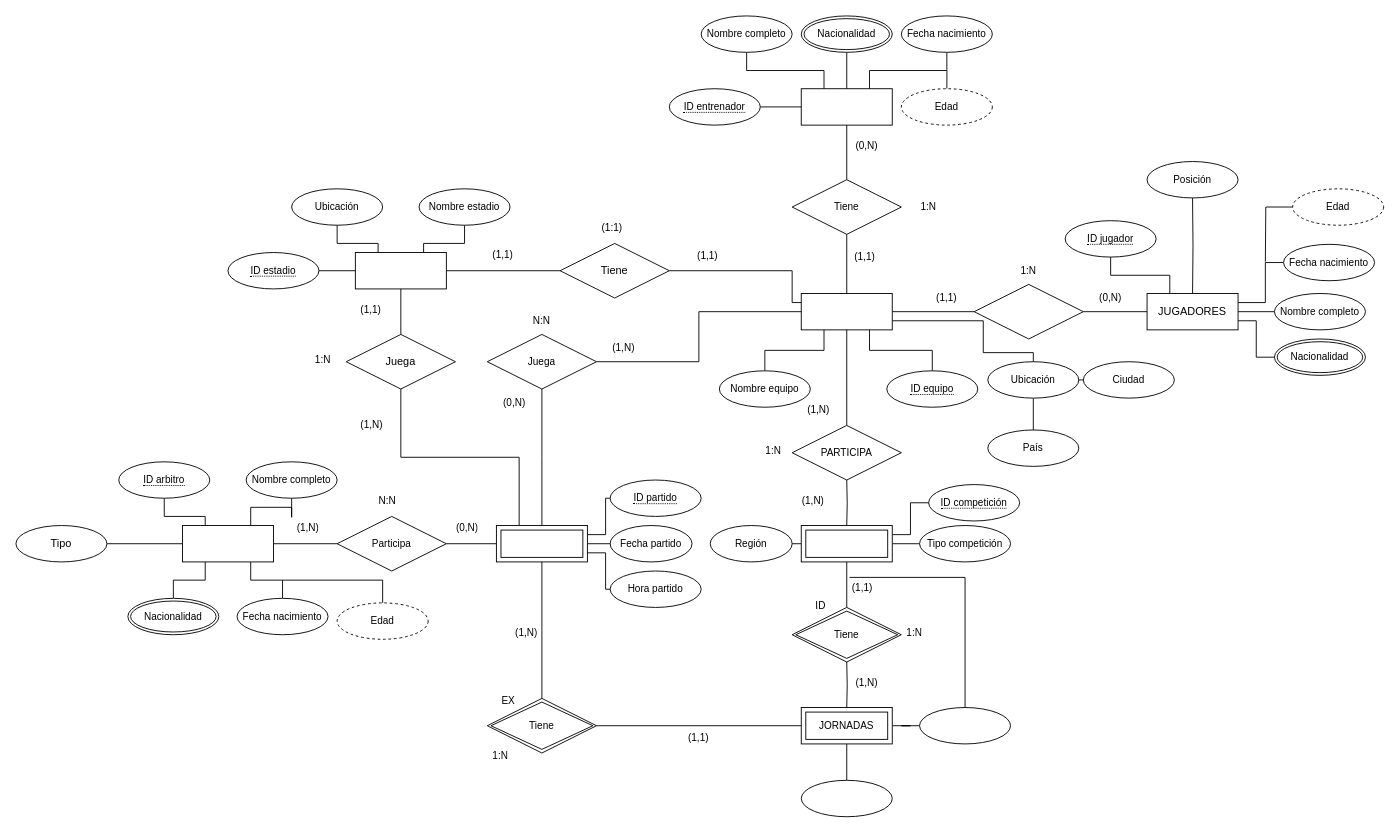
This 1400x833 diagram has some shape labels left out. Each missing label, with the centre of its shape:
ARBITROS: the point at 227,543
COMPETICIÓN: the point at 846,543
ENTRENADOR: the point at 846,106
EQUIPOS: the point at 846,311
ESTADIO: the point at 400,270
Fecha: the point at 846,798
Num Jornada: the point at 965,725
PARTIDOS: the point at 541,543
Pertenece: the point at 1028,311
